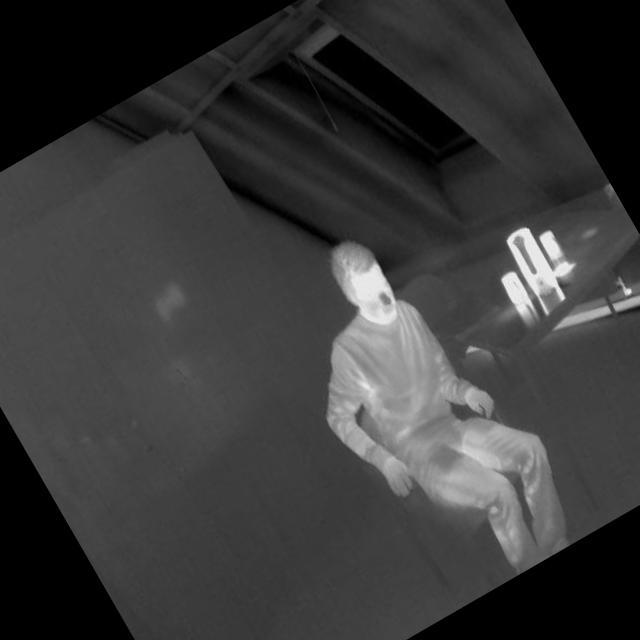person: (251, 196, 604, 620)
